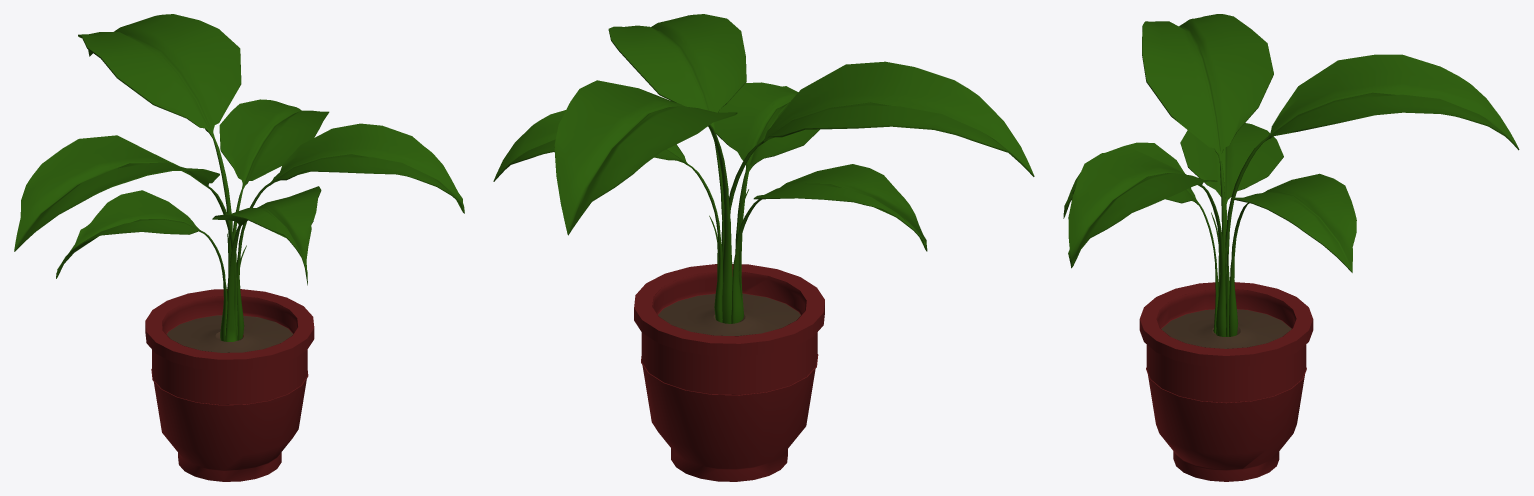
File: plant_potted_laanita.glb
The picture shows the model from 3 angles, left to right: view 1: azimuth 30°, elevation 25°; view 2: azimuth 150°, elevation 25°; view 3: azimuth 270°, elevation 25°; orthographic projection. The views are drawn at different scales.
Visible parts, largest first — view 1: polySurface7_lambert2_0, pCylinder1_lambert3_0, pCylinder1_lambert4_0; view 2: polySurface7_lambert2_0, pCylinder1_lambert3_0, pCylinder1_lambert4_0; view 3: polySurface7_lambert2_0, pCylinder1_lambert3_0, pCylinder1_lambert4_0.
Part boxes in pixels (<box>): polySurface7_lambert2_0: <box>14,14,464,341</box>; pCylinder1_lambert3_0: <box>145,289,314,481</box>; pCylinder1_lambert4_0: <box>167,315,293,352</box>; polySurface7_lambert2_0: <box>493,14,1034,323</box>; pCylinder1_lambert3_0: <box>634,264,824,481</box>; pCylinder1_lambert4_0: <box>658,293,800,335</box>; polySurface7_lambert2_0: <box>1063,14,1519,336</box>; pCylinder1_lambert3_0: <box>1139,282,1313,481</box>; pCylinder1_lambert4_0: <box>1161,309,1291,348</box>.
Bounding box in the file's own units: 17.51 × 15.1 × 16.6.
3 materials, 1 textured.
